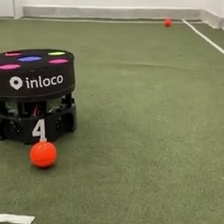ball: (28, 140, 57, 169), (163, 17, 172, 27)
goal: (1, 1, 25, 20)
robot: (1, 45, 77, 145)
